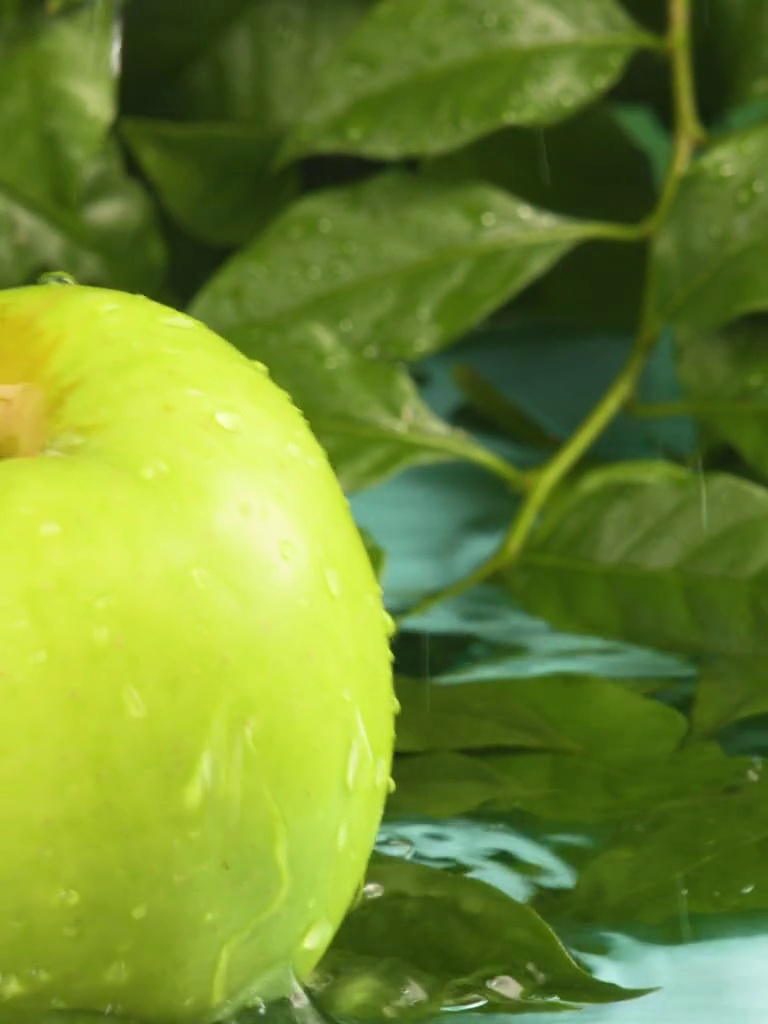Apple: (1, 270, 402, 1024)
